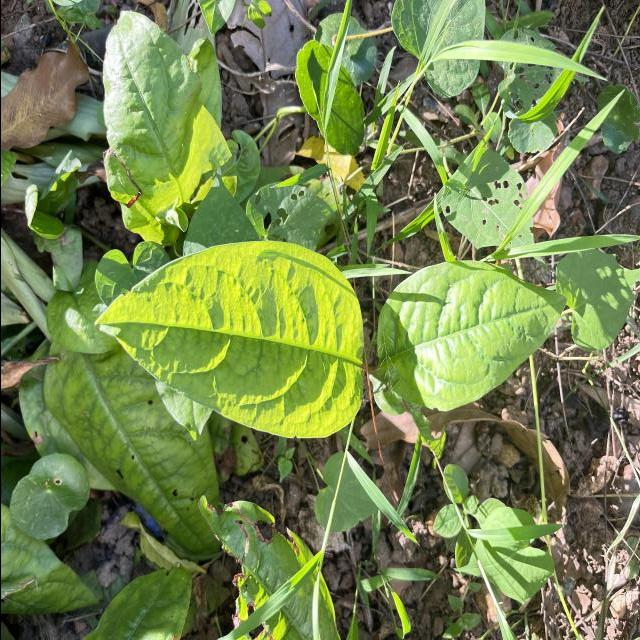Plumbago indica: (91, 235, 377, 444), (367, 255, 573, 418), (98, 1, 224, 210)
